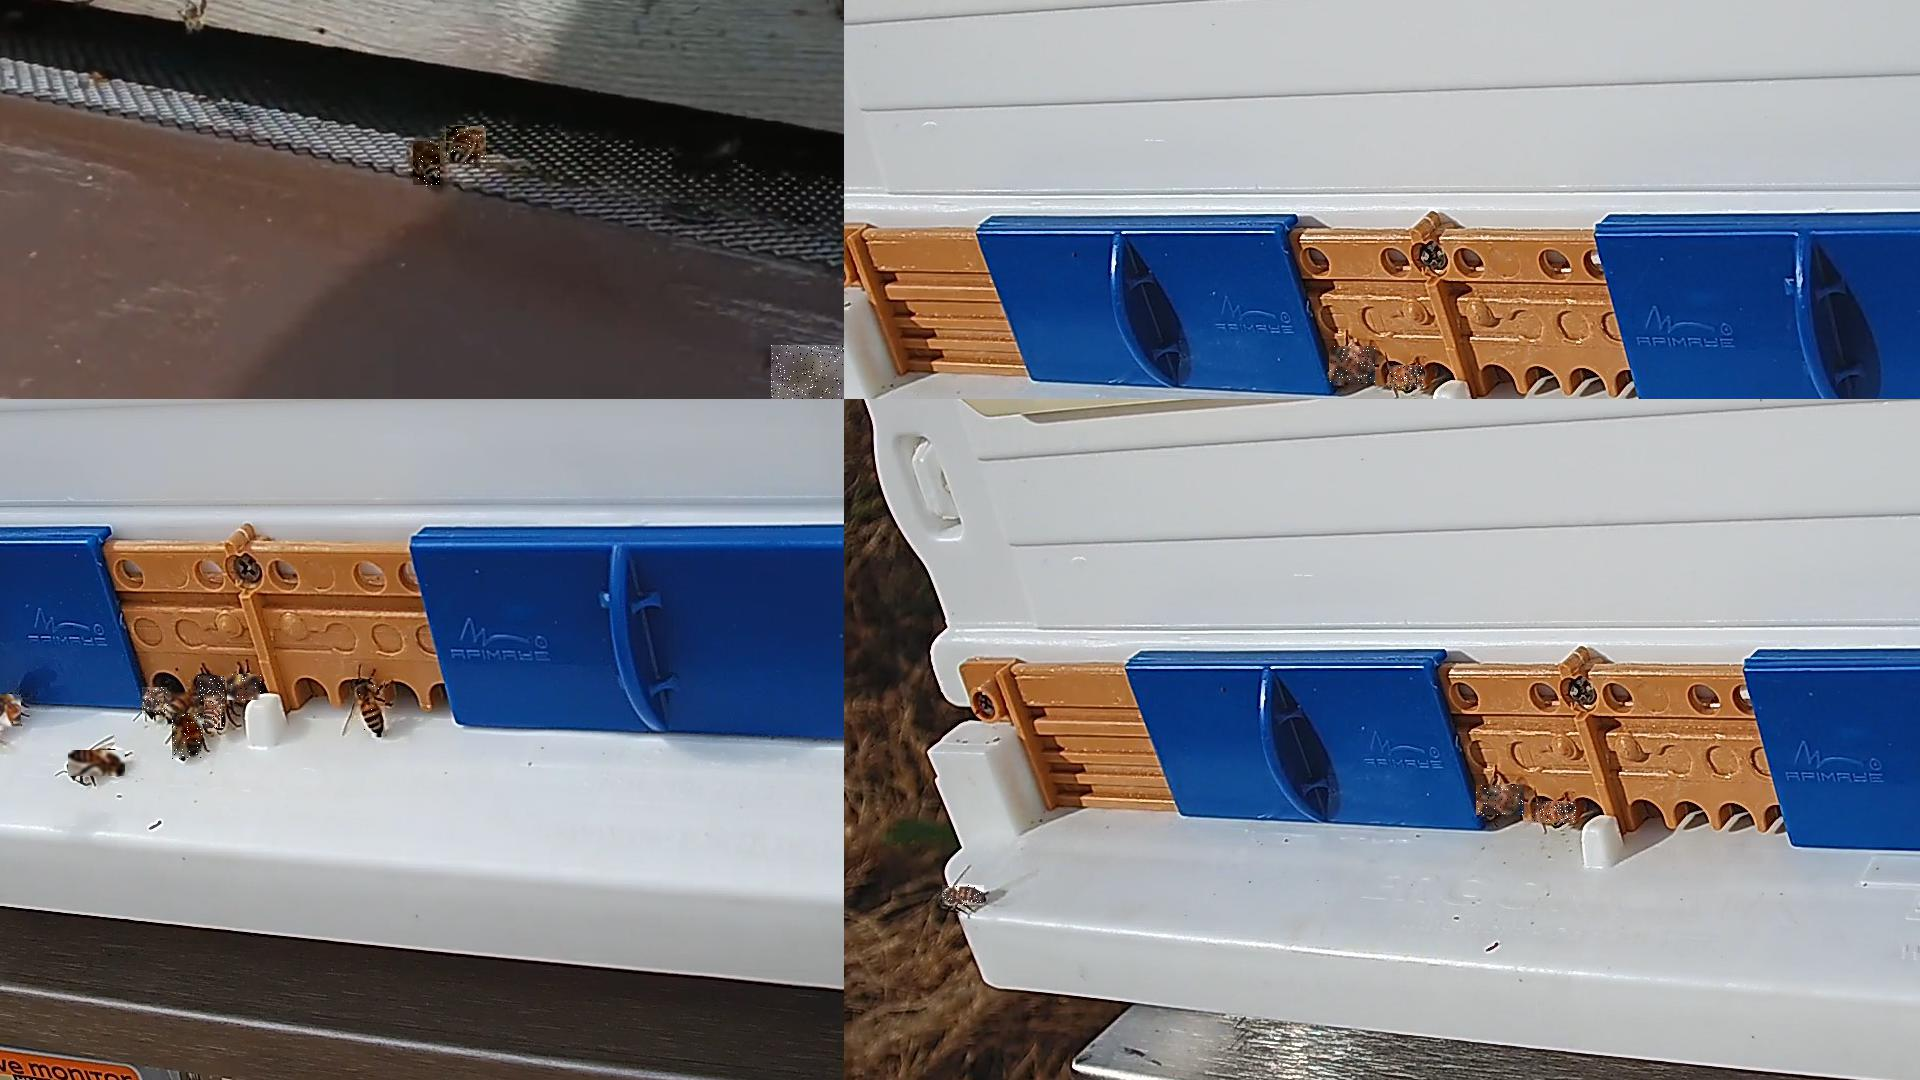bee: (771, 344, 843, 398), (352, 679, 386, 737), (1329, 347, 1377, 386), (171, 713, 204, 761), (1477, 785, 1526, 816), (69, 750, 127, 777), (446, 127, 487, 164), (413, 142, 442, 189), (1532, 800, 1577, 824), (169, 692, 200, 723), (1389, 365, 1425, 390), (942, 885, 985, 906), (196, 676, 225, 705), (0, 694, 22, 731), (142, 688, 170, 716), (204, 699, 225, 729)
pollenbee: (228, 674, 262, 702)
